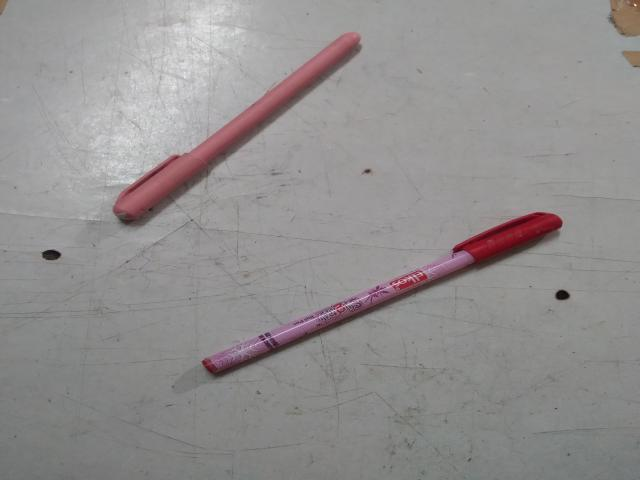PEN: (181, 212, 570, 382), (96, 31, 369, 234)
